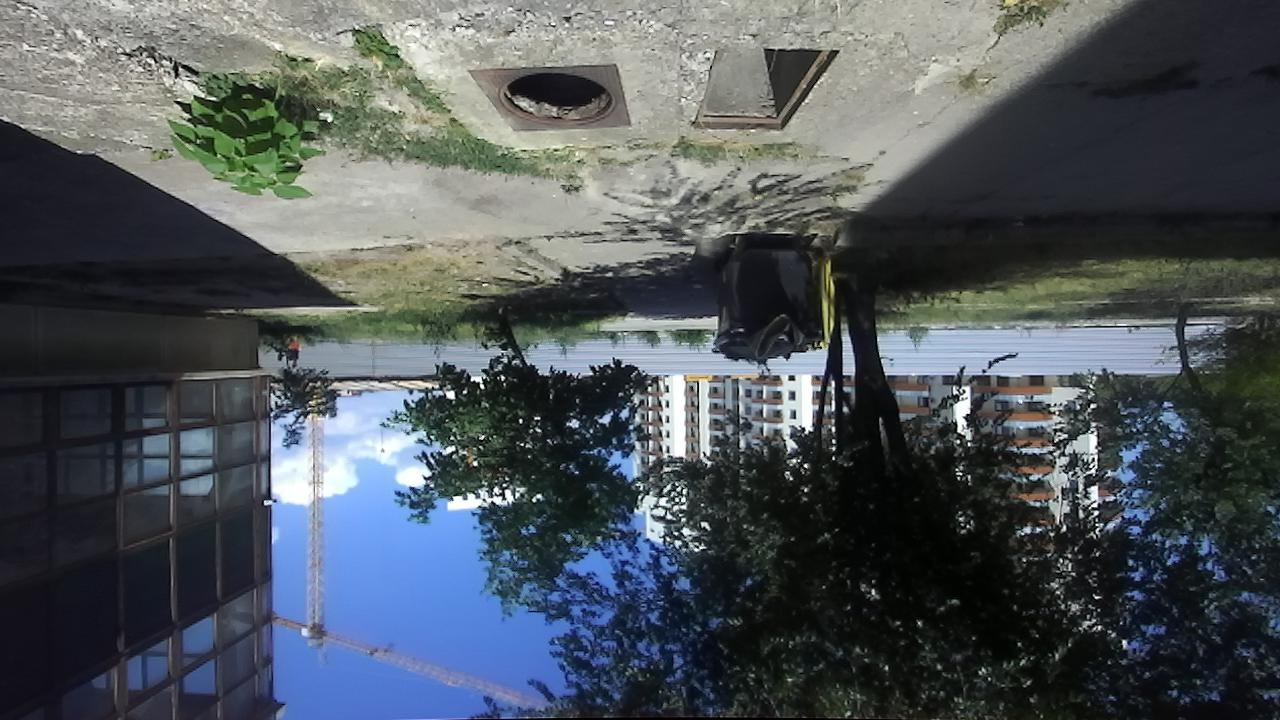drain: (688, 45, 847, 133), (491, 73, 616, 128)
